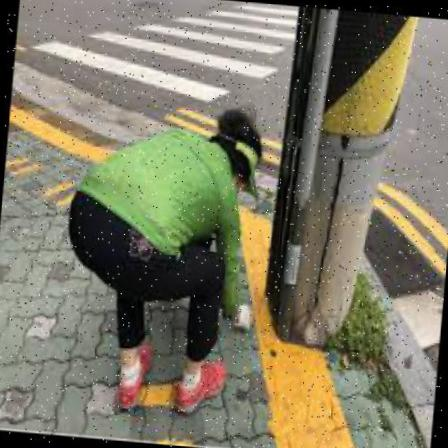silver: (52, 96, 270, 422)
